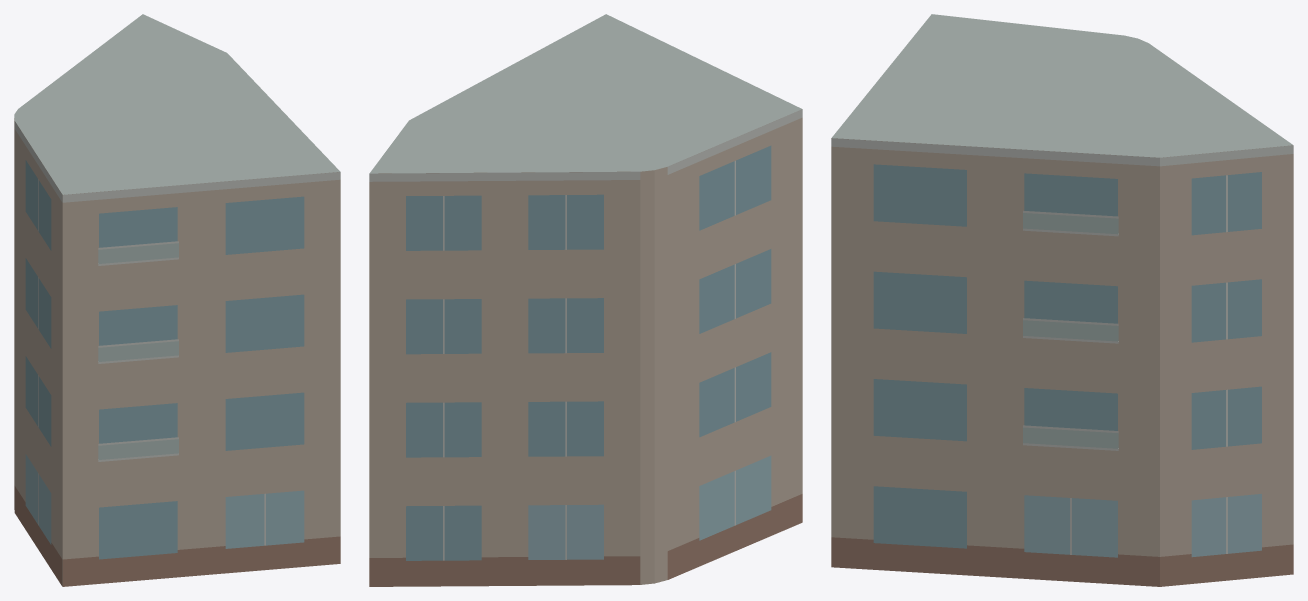
Rendered from survey-upis-32944552.glb.
3 views of the same model, side by side, from view 1: azimuth 30°, elevation 25°; view 2: azimuth 150°, elevation 25°; view 3: azimuth 270°, elevation 25° (orthographic). The views are drawn at different scales.
Visible parts, largest first — view 1: survey-upis-32944552.tmp; view 2: survey-upis-32944552.tmp; view 3: survey-upis-32944552.tmp.
Part boxes in pixels (left/top/right/bottom): survey-upis-32944552.tmp: left=14, top=14, right=340, bottom=586; survey-upis-32944552.tmp: left=369, top=14, right=802, bottom=586; survey-upis-32944552.tmp: left=831, top=14, right=1293, bottom=586.
Size of the model in its own units: 8.7 by 12.1 by 11.82.
